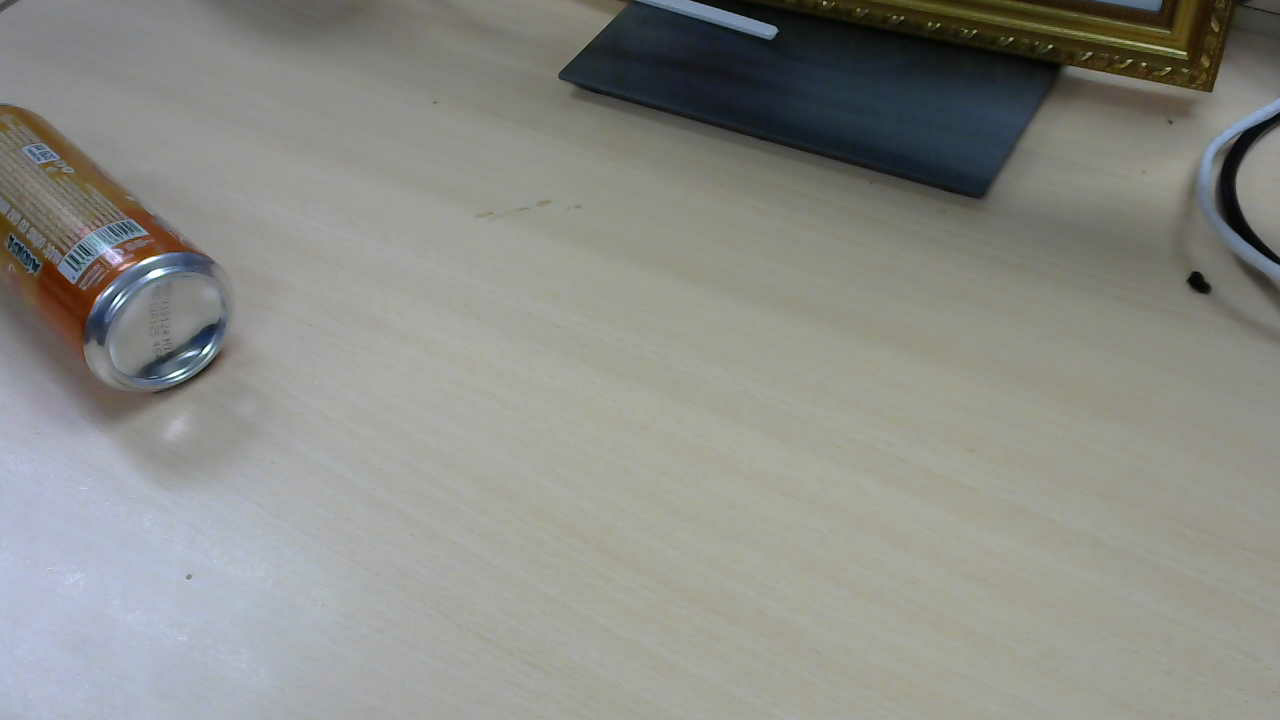Mirinda: (6, 106, 237, 400)
